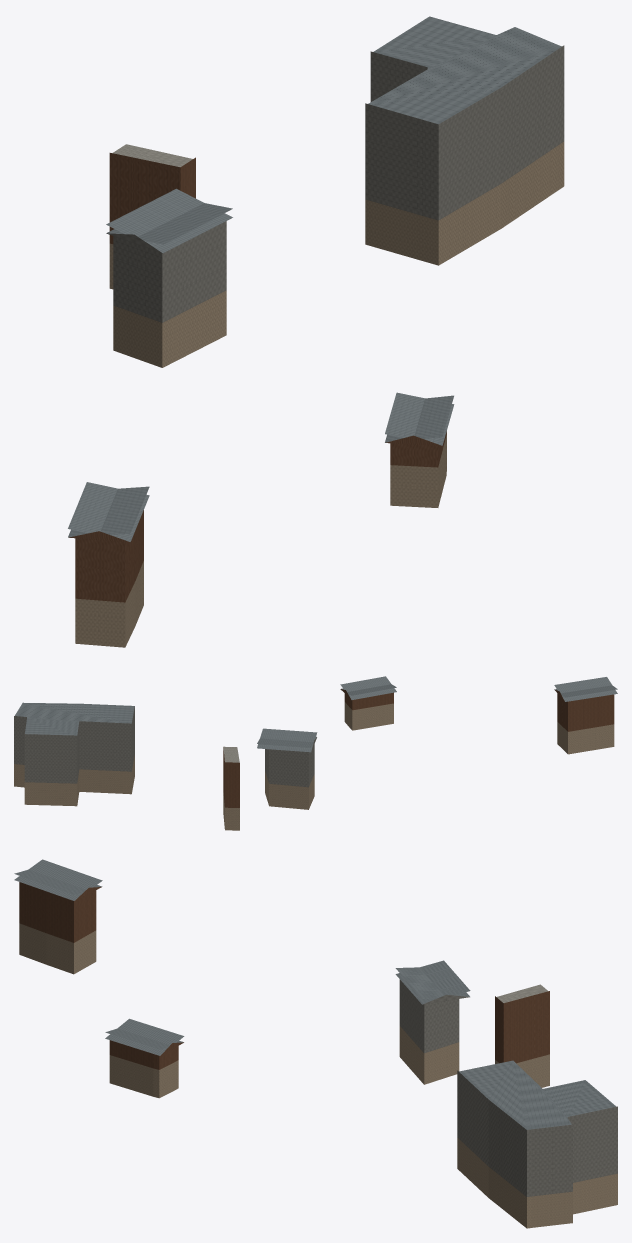
The model's file is bld_c10_18_433.gltf.
3 renders of one model, top to bottom at view 1: azimuth 30°, elevation 25°; view 2: azimuth 150°, elevation 25°; view 3: azimuth 270°, elevation 25°, orthographic. The views are drawn at different scales.
Visible parts, largest first — view 1: bld_c10_18_433; view 2: bld_c10_18_433; view 3: bld_c10_18_433.
Boxes of the visible parts, bbox=[...] form: bld_c10_18_433: bbox=[68, 16, 564, 647]; bld_c10_18_433: bbox=[14, 676, 617, 830]; bld_c10_18_433: bbox=[14, 859, 617, 1228].
Bounding box in the file's own units: 99.84 × 16.08 × 88.74.
Materials: 7 (7 with a texture image).
